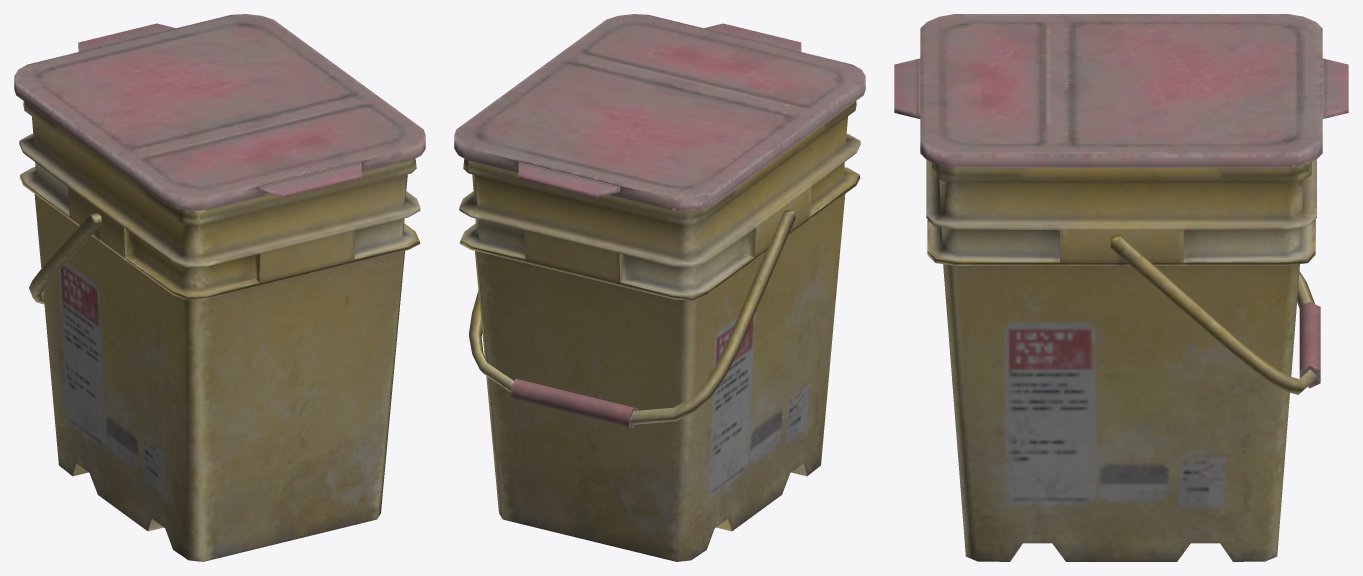
File: 137_Pail.fbx
3 renders of one model, left to right at view 1: azimuth 30°, elevation 25°; view 2: azimuth 150°, elevation 25°; view 3: azimuth 270°, elevation 25°, orthographic. The views are drawn at different scales.
Parts seen in each view (by area): view 1: LOD_1_Group_0_Sub_1__sm30_137_Pail01A_A_Mat; view 2: LOD_1_Group_0_Sub_1__sm30_137_Pail01A_A_Mat; view 3: LOD_1_Group_0_Sub_1__sm30_137_Pail01A_A_Mat.
Boxes of the visible parts, bbox=[...] form: LOD_1_Group_0_Sub_1__sm30_137_Pail01A_A_Mat: bbox=[14, 14, 425, 561]; LOD_1_Group_0_Sub_1__sm30_137_Pail01A_A_Mat: bbox=[454, 14, 865, 561]; LOD_1_Group_0_Sub_1__sm30_137_Pail01A_A_Mat: bbox=[894, 14, 1348, 561].
Bounding box in the file's own units: 0.2824 × 0.3957 × 0.3828.
